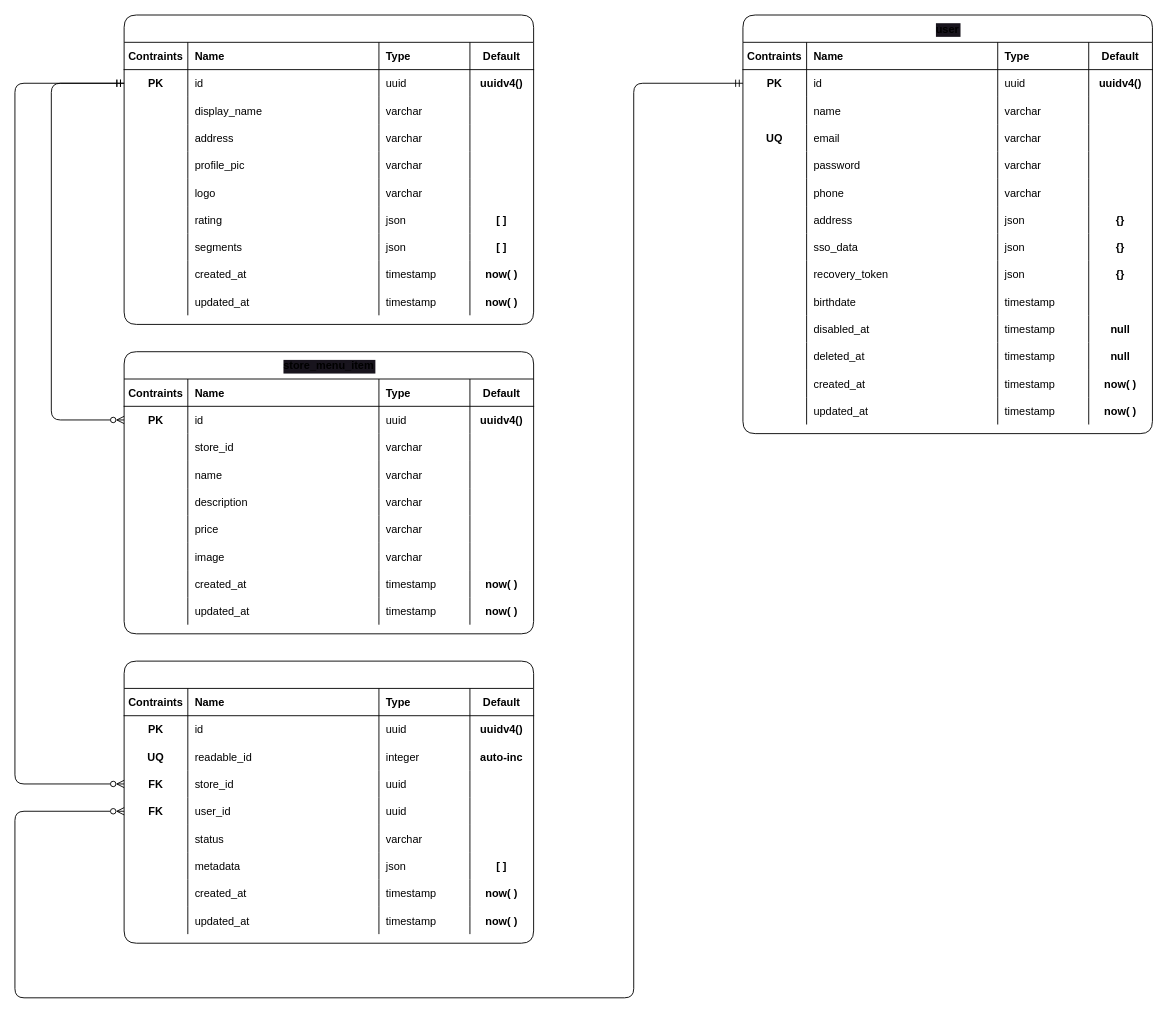
Image size: 1168x1013. Some labels were removed from this diagram. The box of each missing label's shape, as (x1, y1, x2, y2) in pixels:
order: (123, 660, 534, 943)
store: (123, 14, 534, 324)
